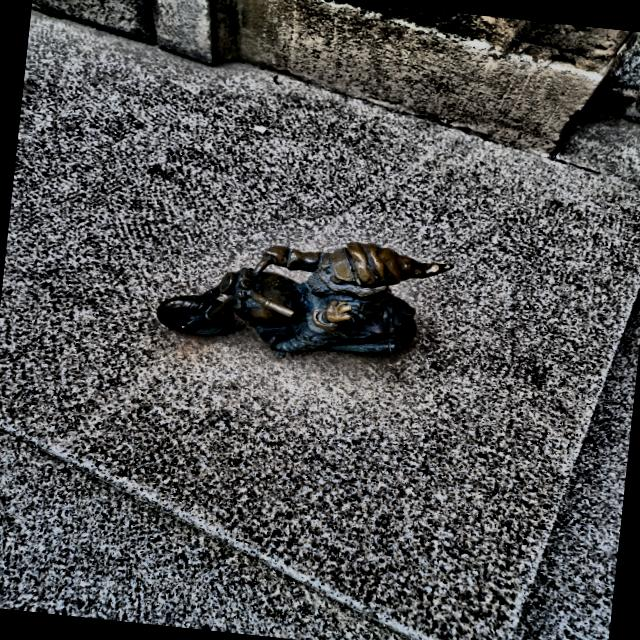Wentyl: (158, 242, 448, 356)
